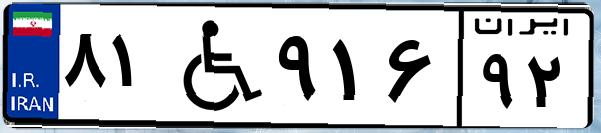1: (330, 28, 385, 110), (110, 28, 158, 98)
2: (525, 38, 570, 115)
6: (385, 28, 445, 110)
8: (57, 26, 110, 100)
9: (270, 28, 330, 110), (475, 38, 525, 113)
ژ (معلولین و جانبازان): (158, 12, 270, 120)
